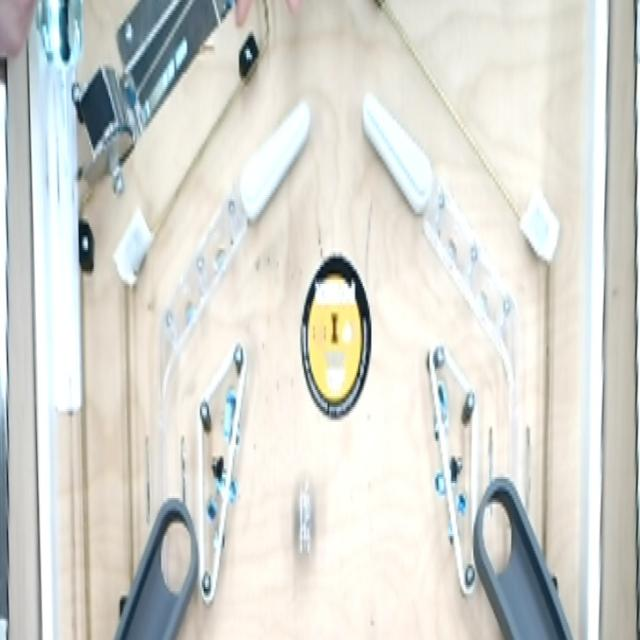ball: (287, 476, 321, 562)
flipper-left: (359, 80, 441, 228)
flipper-right: (234, 88, 312, 230)
